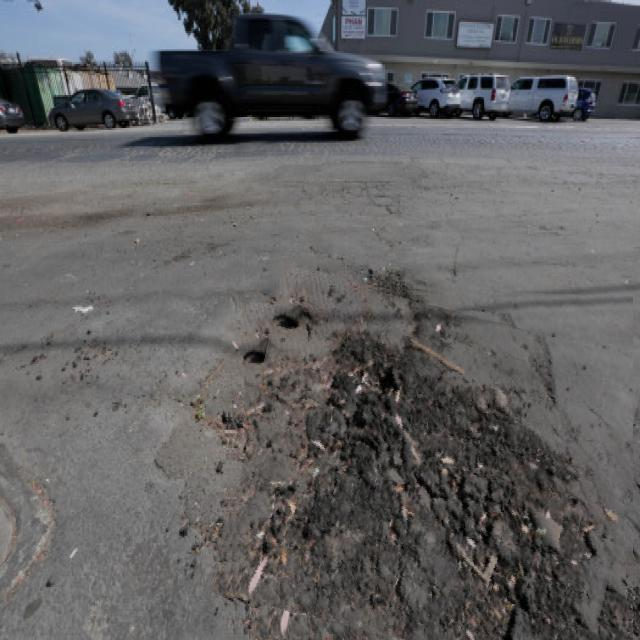Pothole: (224, 284, 633, 640)
